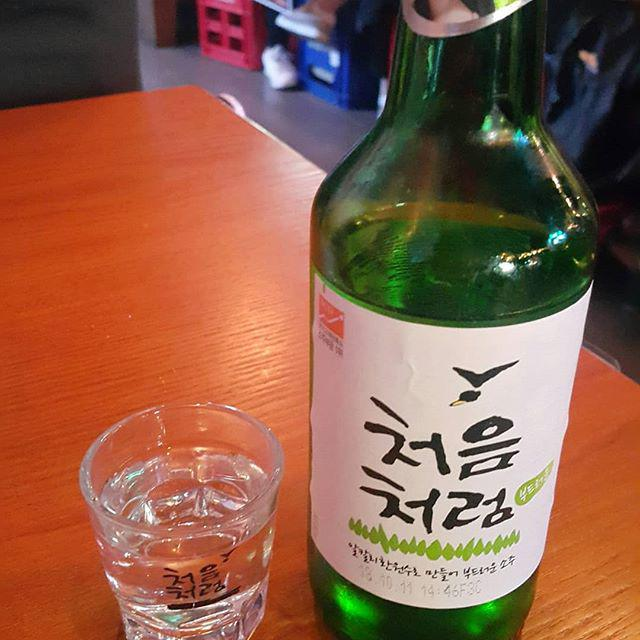soju: (305, 1, 600, 638)
